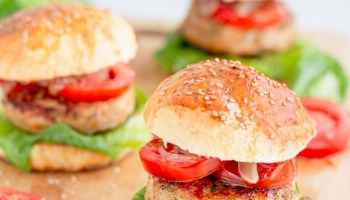hamburger_buns: (148, 62, 304, 161), (1, 11, 147, 86)
